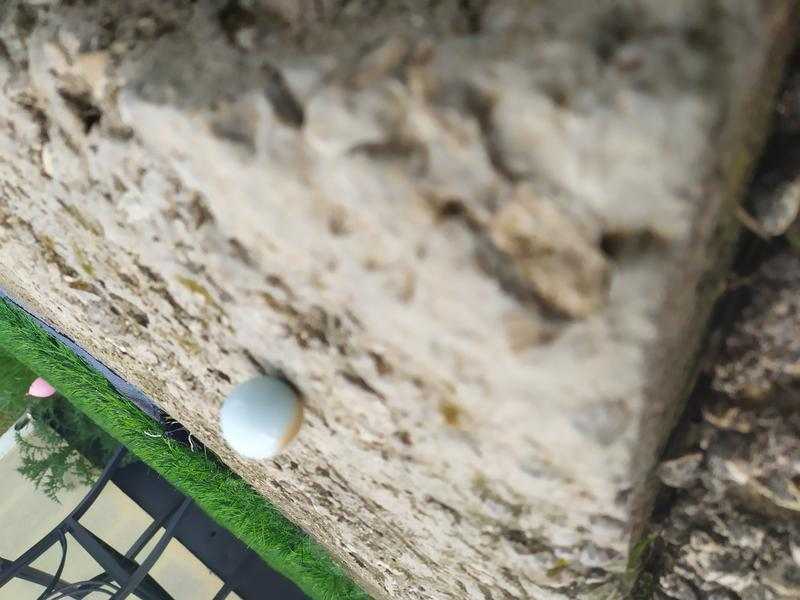Warning: (217, 371, 307, 463)
